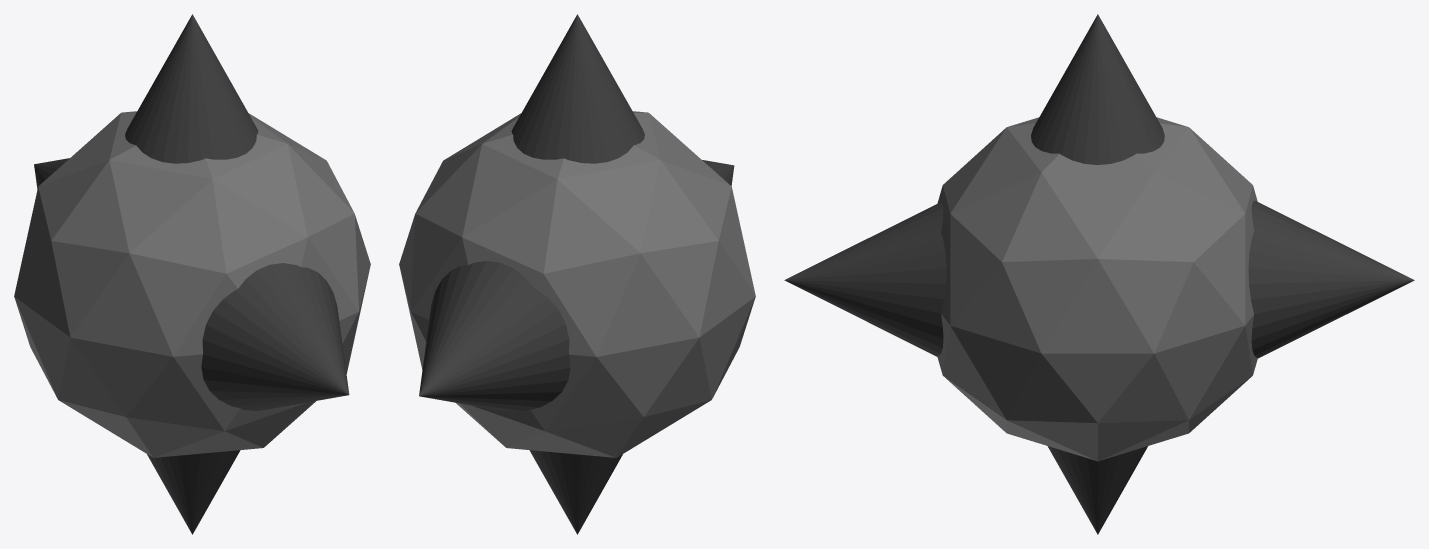
The model's file is enemy.obj.
3 views of the same model, side by side, from view 1: azimuth 30°, elevation 25°; view 2: azimuth 150°, elevation 25°; view 3: azimuth 270°, elevation 25° (orthographic).
Parts seen in each view (by area): view 1: 円錐.004; view 2: 円錐.004; view 3: 円錐.004.
Part boxes in pixels (x1,y1,x2,y2): 円錐.004: (14, 14, 370, 534); 円錐.004: (399, 14, 755, 534); 円錐.004: (784, 14, 1414, 534).
Size of the model in its own units: 0.8183 by 1.36 by 1.49.
